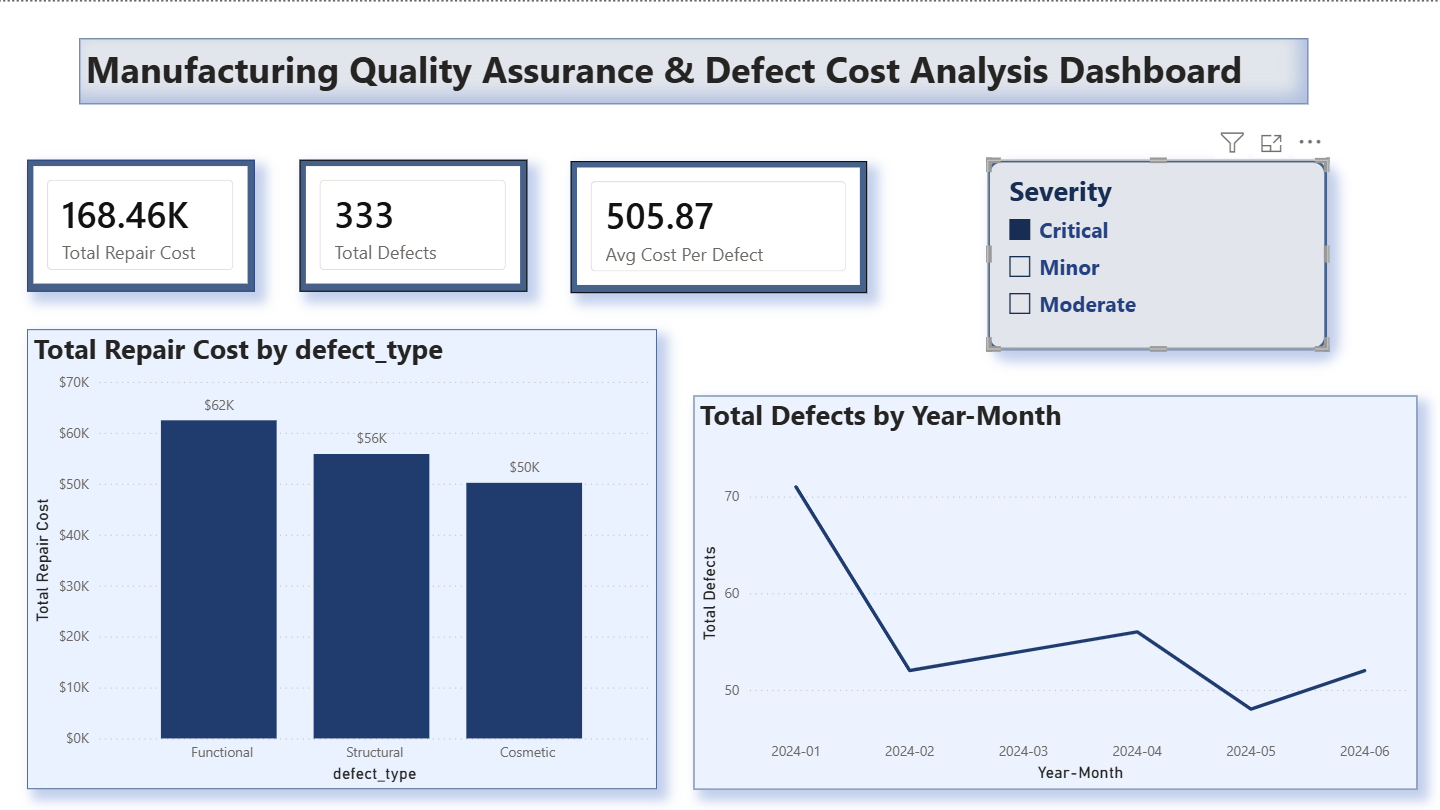

The page's visual inventory and layout, read from the dashboard file:
{"tool":"powerbi","page":{"name":"Page 1","canvas":[1280,720],"ordinal":0},"visuals":[{"type":"cardVisual","fields":{"Data":["cleaned_defects_data.Total Repair Cost"]},"box":[26.1,140,201.7,116.6],"z":0},{"type":"cardVisual","fields":{"Data":["cleaned_defects_data.Total Defects"]},"box":[266.9,140,201.7,116.6],"z":1000},{"type":"cardVisual","fields":{"Data":["cleaned_defects_data.Avg Cost Per Defect"]},"box":[507.7,141.3,262.1,116.6],"z":2000},{"type":"clusteredColumnChart","fields":{"Category":["cleaned_defects_data.defect_type"],"Y":["cleaned_defects_data.Total Repair Cost"]},"box":[26.2,290,557.5,407.5],"z":3000},{"type":"lineChart","fields":{"Category":["DimCalendar.Year-Month"],"Y":["cleaned_defects_data.Total Defects"]},"box":[616.1,348.5,640.8,348.5],"z":4000},{"type":"slicer","fields":{"Values":["cleaned_defects_data.severity"]},"box":[876.8,140,300.5,168.8],"z":5000},{"type":"textbox","box":[72,32,1088,58],"z":6000}]}

Visuals, with their boxes in screenshot pixels (x1, y1, x2, y2), scaled from the page's 1280x720 canvas onto the 1440x810 screenshot:
cardVisual - cleaned_defects_data.Total Repair Cost: bbox=(29, 158, 256, 289)
cardVisual - cleaned_defects_data.Total Defects: bbox=(300, 158, 527, 289)
cardVisual - cleaned_defects_data.Avg Cost Per Defect: bbox=(571, 159, 866, 290)
clusteredColumnChart - cleaned_defects_data.defect_type x cleaned_defects_data.Total Repair Cost: bbox=(29, 326, 657, 785)
lineChart - DimCalendar.Year-Month x cleaned_defects_data.Total Defects: bbox=(693, 392, 1414, 784)
slicer - cleaned_defects_data.severity: bbox=(986, 158, 1324, 347)
textbox: bbox=(81, 36, 1305, 101)
